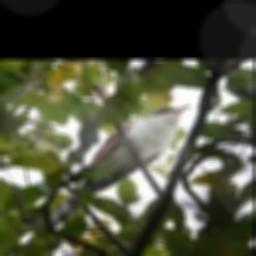Cuckoo: (48, 104, 190, 226)
